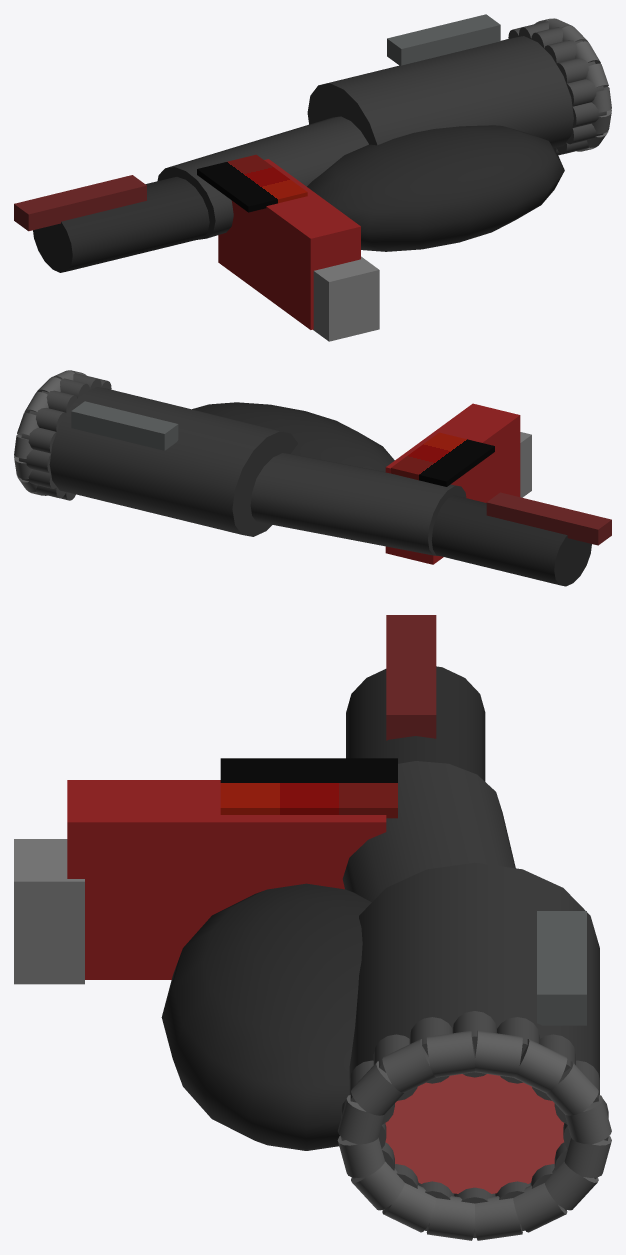
Rendered from CMU3DFieldRMCAttachmentB8SmartScopeCloud.glb.
3 renders of one model, top to bottom at view 1: azimuth 30°, elevation 25°; view 2: azimuth 150°, elevation 25°; view 3: azimuth 270°, elevation 25°, orthographic. The views are drawn at different scales.
Parts seen in each view (by area): view 1: lower sensor housing, main charcoal scope body, red vertical bracket, left short ocular neck, ocular-to-housing bridge, bracket gray foot, left red thin indicator, original red bracket detail, upper source gray highlight, hollow optical neck wall 8, hollow optical neck wall 7, hollow optical neck wall 9 (+2 smaller); view 2: main charcoal scope body, ocular-to-housing bridge, left short ocular neck, red vertical bracket, lower sensor housing, left red thin indicator, original red bracket detail, upper source gray highlight, bracket gray foot, hollow optical neck wall 2, hollow optical neck wall 3, hollow optical neck wall 1 (+6 smaller); view 3: lower sensor housing, red vertical bracket, main charcoal scope body, recessed red lens, ocular-to-housing bridge, original red bracket detail, bracket gray foot, left short ocular neck, left red thin indicator, upper source gray highlight, front open optical rim arc 5, front open optical rim arc 4 (+17 smaller).
Part boxes in pixels (x1,y1,x2,y2): lower sensor housing: (307,125,564,251); main charcoal scope body: (307,36,573,148); red vertical bracket: (218,159,360,329); left short ocular neck: (33,177,209,272); ocular-to-housing bridge: (157,116,368,239); bracket gray foot: (313,256,379,341); left red thin indicator: (14,175,146,231); original red bracket detail: (197,154,307,212); upper source gray highlight: (387,14,500,65); hollow optical neck wall 8: (566,79,603,106); hollow optical neck wall 7: (556,58,595,83); hollow optical neck wall 9: (572,102,606,128); main charcoal scope body: (49,387,297,536); ocular-to-housing bridge: (250,453,466,555); left short ocular neck: (431,495,591,586); red vertical bracket: (385,403,520,564); lower sensor housing: (192,402,394,471); left red thin indicator: (486,492,611,545); original red bracket detail: (391,432,494,486); upper source gray highlight: (71,401,178,450); bracket gray foot: (520,432,531,497); hollow optical neck wall 2: (21,427,56,453); hollow optical neck wall 3: (29,408,66,431); hollow optical neck wall 1: (19,449,51,473); lower sensor housing: (161,883,371,1150); red vertical bracket: (67,780,386,979); main charcoal scope body: (349,863,599,1079); recessed red lens: (385,1074,563,1193); ocular-to-housing bridge: (342,761,515,902); original red bracket detail: (220,758,397,818); bracket gray foot: (14,839,84,984); left short ocular neck: (346,666,485,781); left red thin indicator: (386,615,436,740); upper source gray highlight: (537,911,586,1025); front open optical rim arc 5: (427,1030,474,1077); front open optical rim arc 4: (475,1030,522,1077).
Bounding box in the file's own units: 0.6048 × 0.1292 × 0.3163.
Materials: 10 (1 with a texture image).
